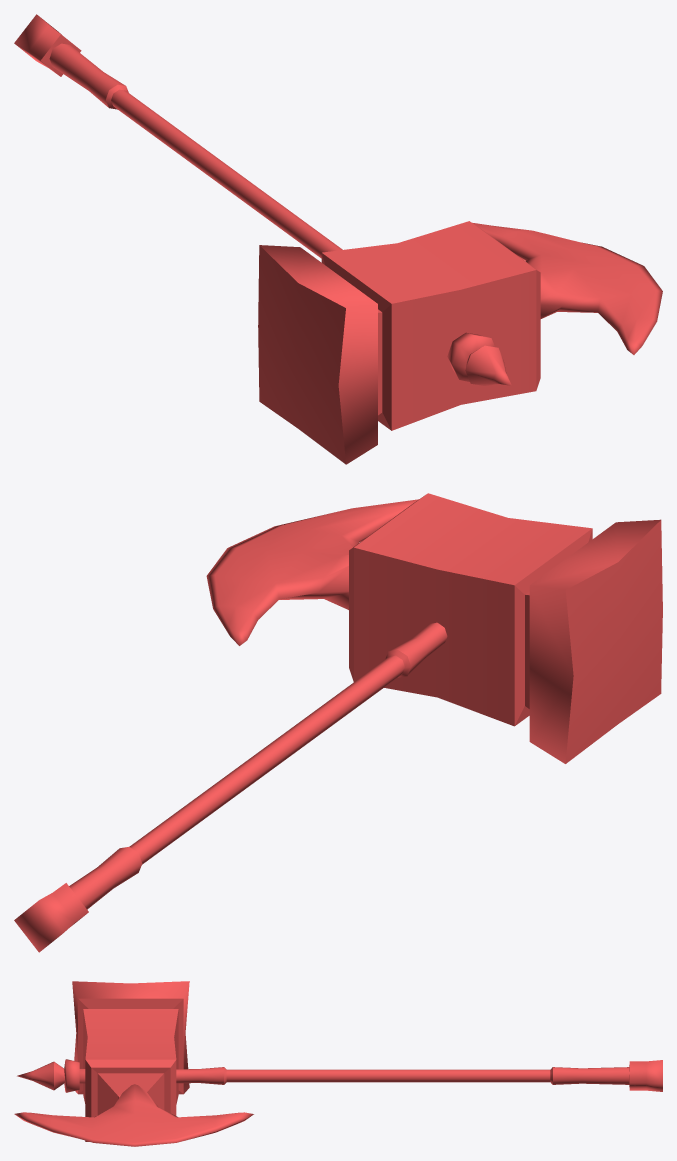
File: Martaxe.fbx
3 renders of one model, top to bottom at view 1: azimuth 30°, elevation 25°; view 2: azimuth 150°, elevation 25°; view 3: azimuth 270°, elevation 25°, orthographic. The views are drawn at different scales.
Visible parts, largest first — view 1: hammerbull_wp001, pCube1; view 2: hammerbull_wp001, pCube1; view 3: hammerbull_wp001, pCube1.
Part boxes in pixels (<box>): hammerbull_wp001: <box>14,14,540,464</box>; pCube1: <box>472,222,662,354</box>; hammerbull_wp001: <box>14,493,662,952</box>; pCube1: <box>206,499,418,645</box>; hammerbull_wp001: <box>17,981,662,1141</box>; pCube1: <box>14,1084,253,1146</box>.
Bounding box in the file's own units: 93.96 × 40.06 × 221.
